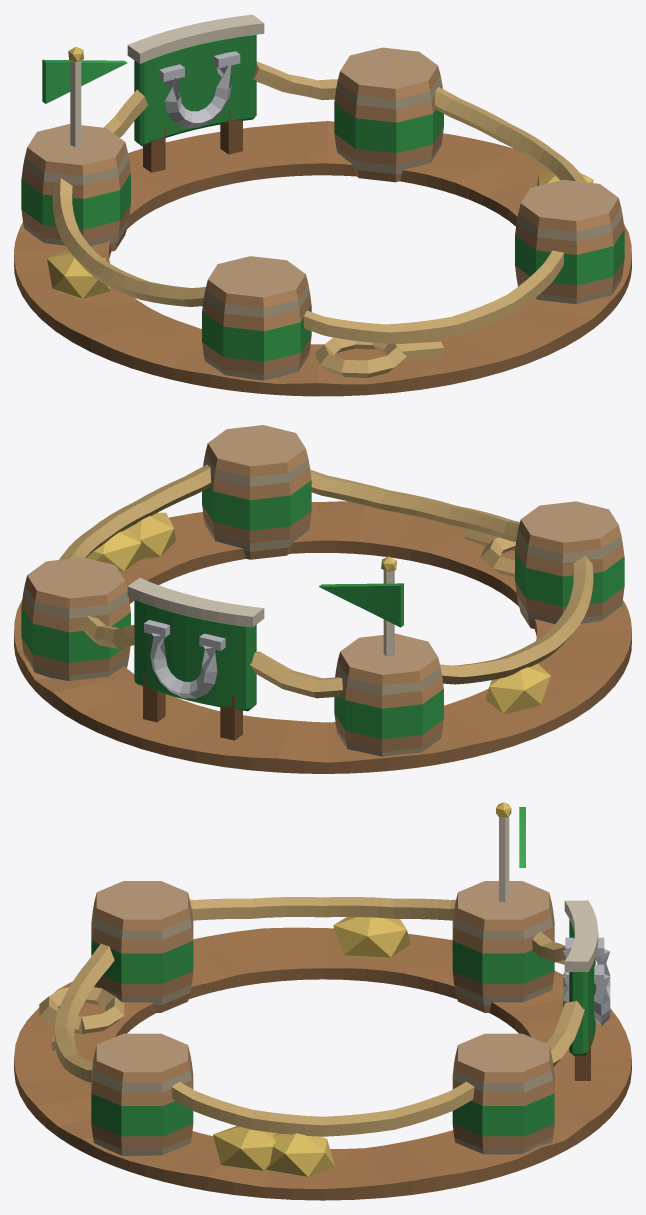
File: habitat_rodeo_barrel_overlay.fbx
3 views of the same model, one above another, from view 1: azimuth 30°, elevation 25°; view 2: azimuth 150°, elevation 25°; view 3: azimuth 270°, elevation 25° (orthographic).
Parts seen in each view (by area): view 1: habitat_rodeo_barrel_overlay; view 2: habitat_rodeo_barrel_overlay; view 3: habitat_rodeo_barrel_overlay.
Boxes of the visible parts, bbox=[...] form: habitat_rodeo_barrel_overlay: bbox=[14, 14, 631, 396]; habitat_rodeo_barrel_overlay: bbox=[14, 425, 631, 773]; habitat_rodeo_barrel_overlay: bbox=[14, 802, 631, 1200].
Bounding box in the file's own units: 7.5 × 2.56 × 7.5.
